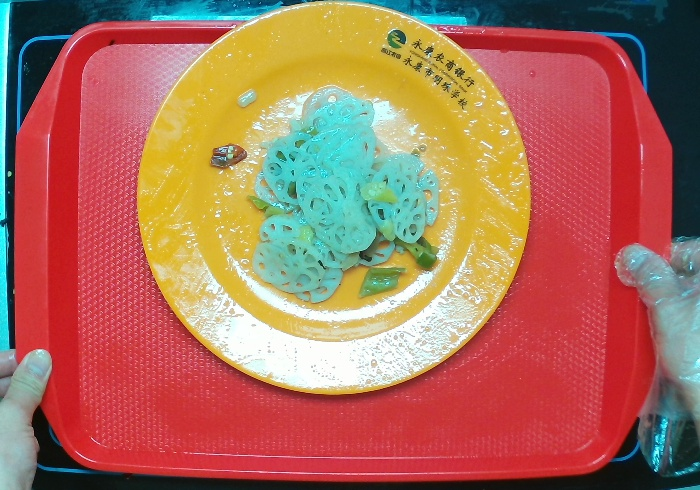YKMZ-Ju_Se_Mian_Pan: (133, 1, 536, 403)
